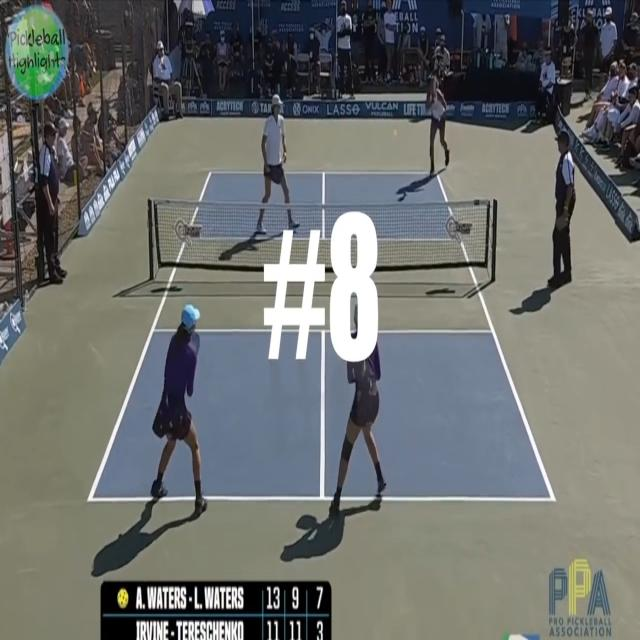Court: (90, 169, 552, 500)
